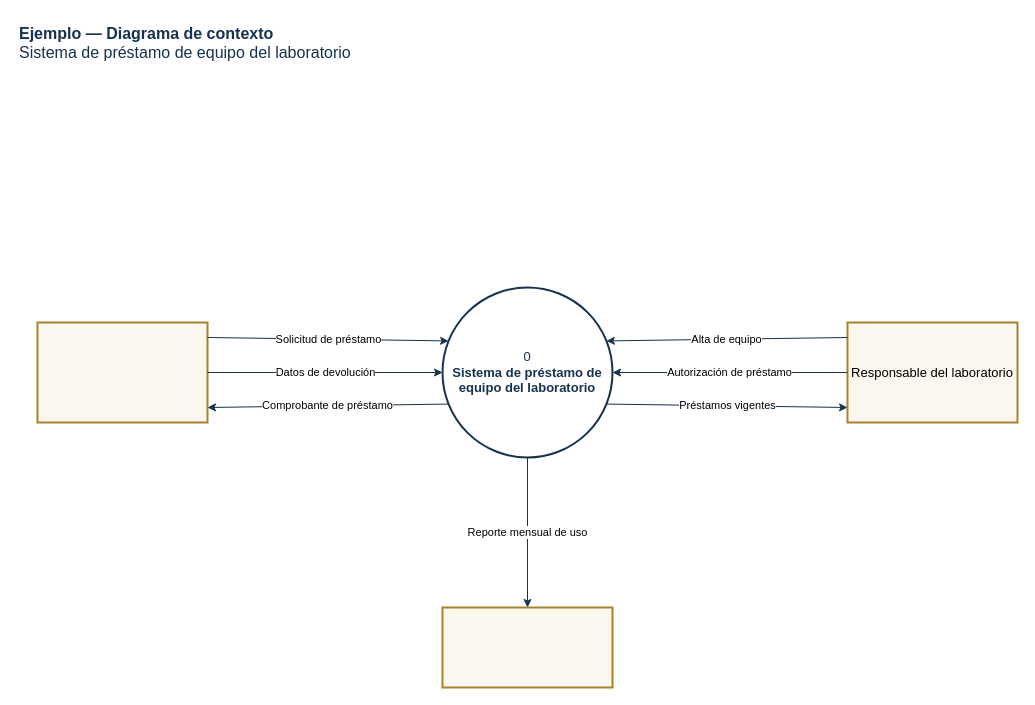
Image size: 1035x705. Some labels were removed from this diagram. The shapes that lost their labels are listed below. From the top down, each one's box as (x1, y1, x2, y2) in pixels, then its label:
(36, 321, 208, 423): Alumno
(441, 606, 613, 688): Coordinación de la carrera
